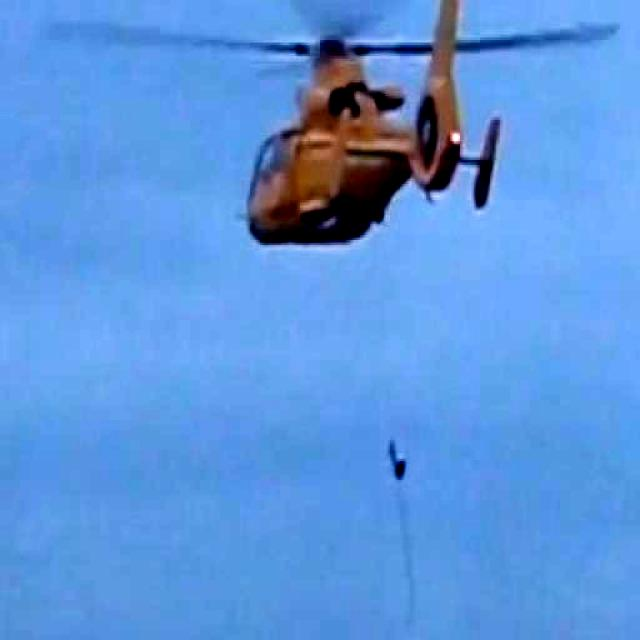drone: (221, 0, 521, 272)
